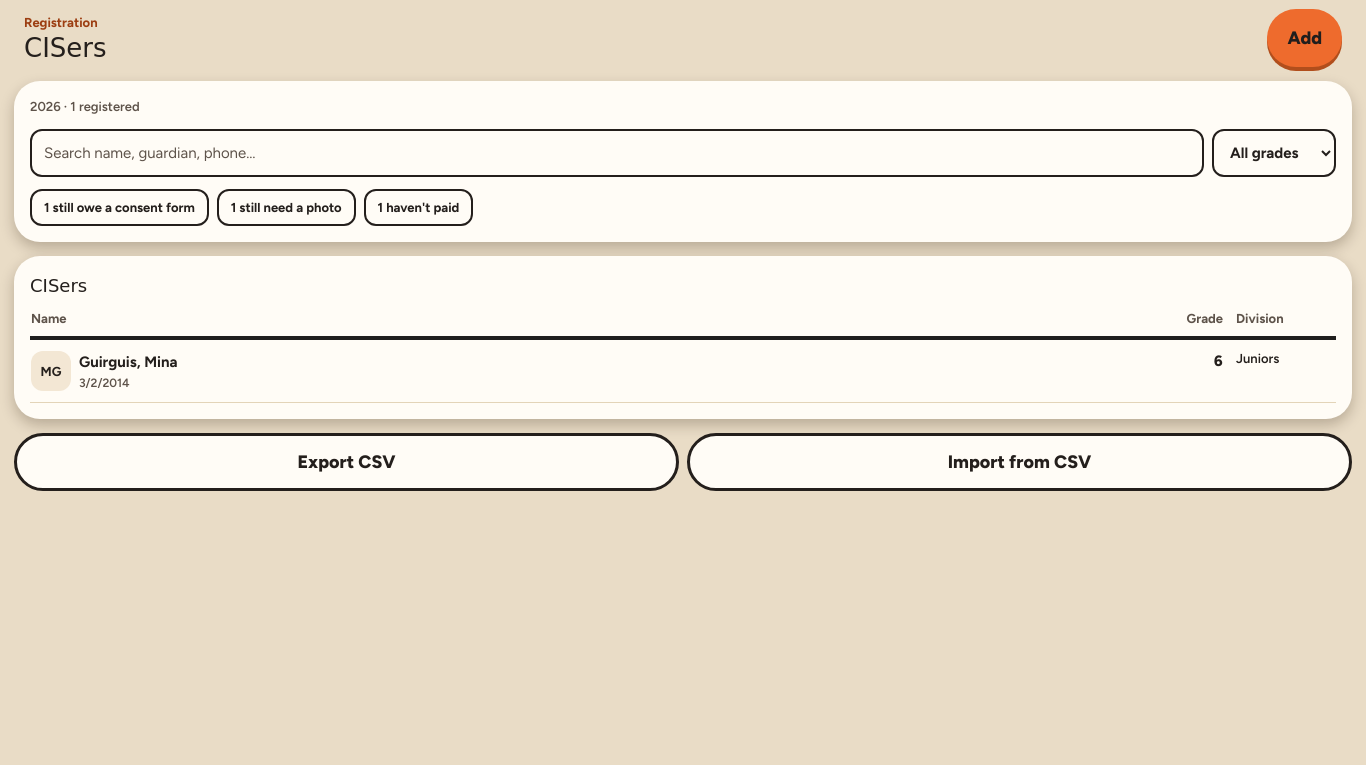
Test case: roster row -- opening a kid's details › shows the contact details that are only in the panel
Step 1. Click the text "Juniors" → (1258, 359), box [1224,338,1336,403]
(page scrolled)
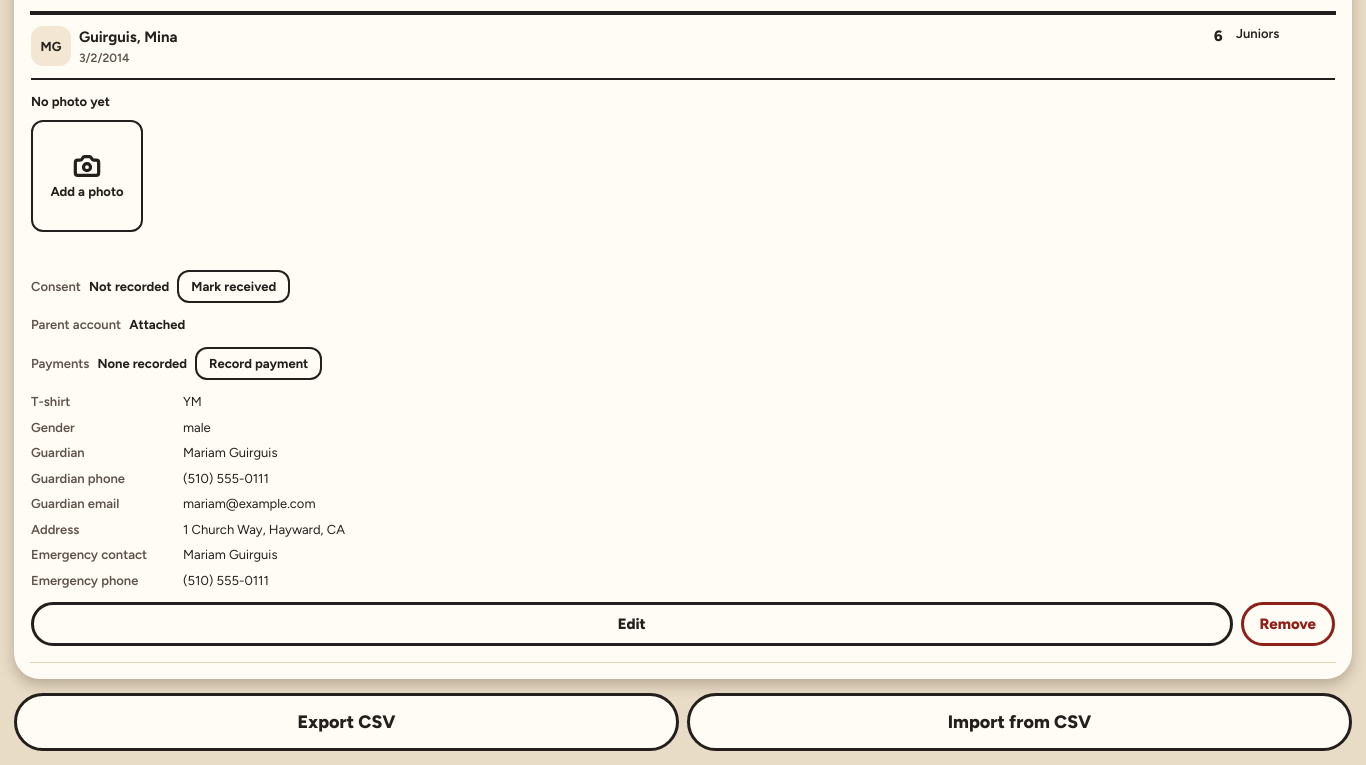
Now the text "mariam@example.com" is shown, box [183,494,316,514]
Now the text "1 Church Way, Hayward, CA" is shown, box [183,520,345,540]
